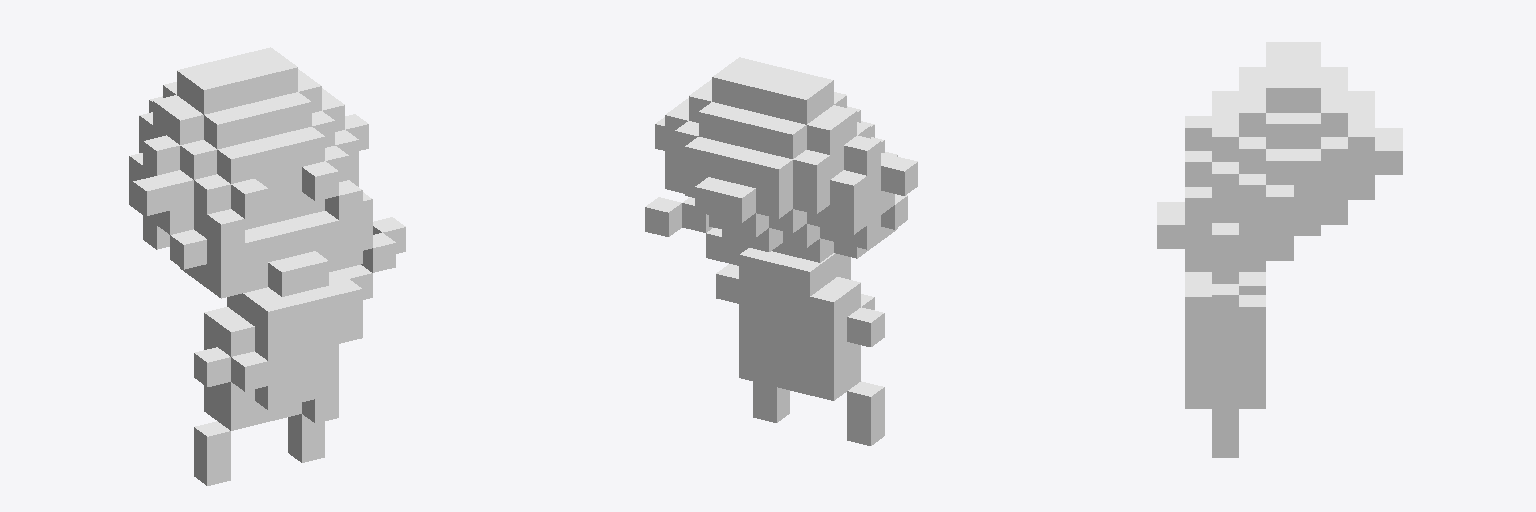
File: 180Jump3.obj
3 views of the same model, side by side, from view 1: azimuth 30°, elevation 25°; view 2: azimuth 150°, elevation 25°; view 3: azimuth 270°, elevation 25° (orthographic).
Visible parts, largest first — view 1: 180Jump3; view 2: 180Jump3; view 3: 180Jump3.
Boxes of the visible parts, box(x1,y1,x2,y2) form: 180Jump3: box(129, 47, 405, 485); 180Jump3: box(645, 57, 917, 445); 180Jump3: box(1157, 42, 1402, 457).
Bounding box in the file's own units: 11 × 15 × 9.